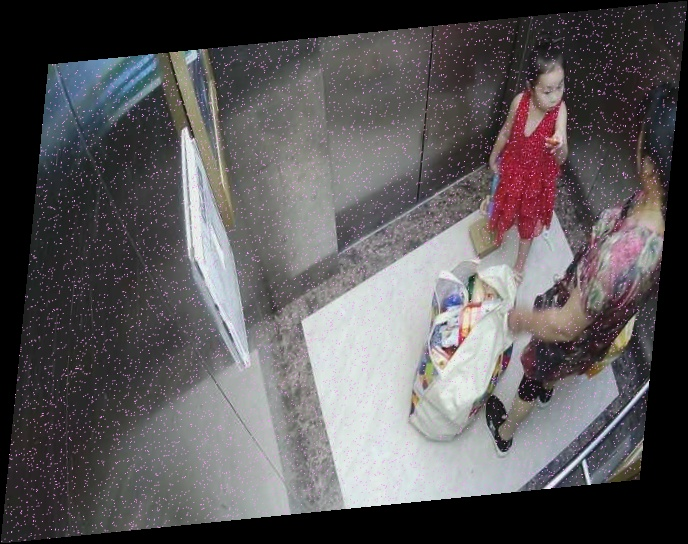bag: (410, 263, 519, 455)
person: (491, 83, 684, 464), (482, 44, 576, 296)
